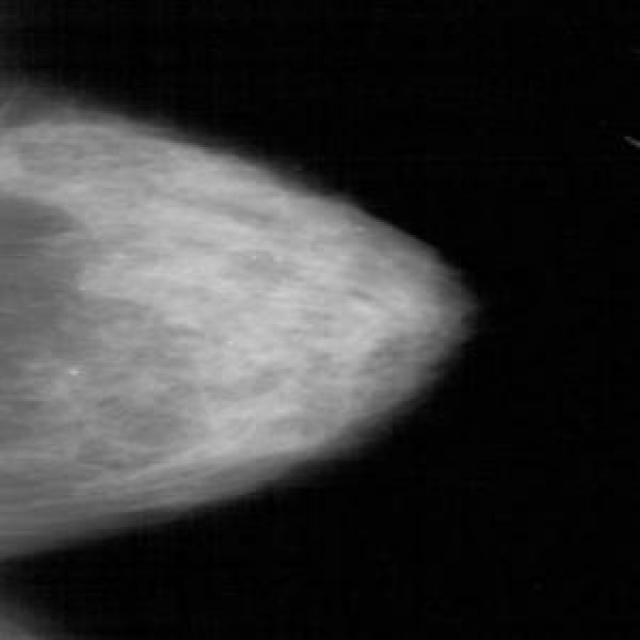tumor: (168, 224, 342, 461)
